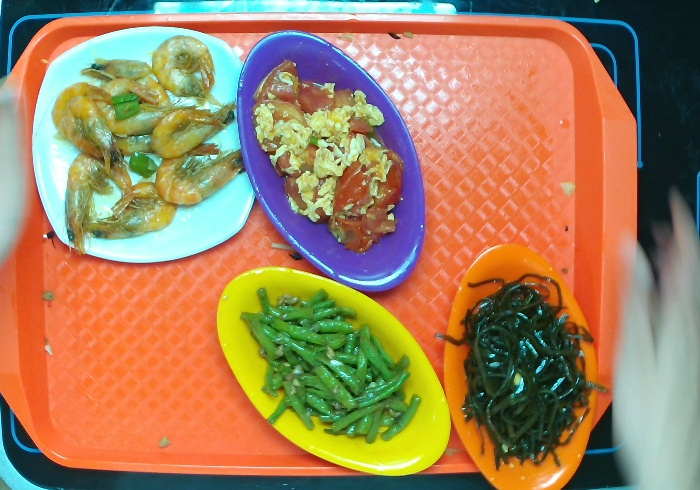RJxy-Fen_Hong_Tuo_Yuan: (236, 28, 427, 293)
RJxy-Huang_Se_Tuo_Yuan: (215, 264, 453, 478)
RJxy-Ju_Huang_Tuo_Yuan: (442, 241, 600, 490)
RJxy-Si_Fang_Die: (29, 24, 258, 265)
